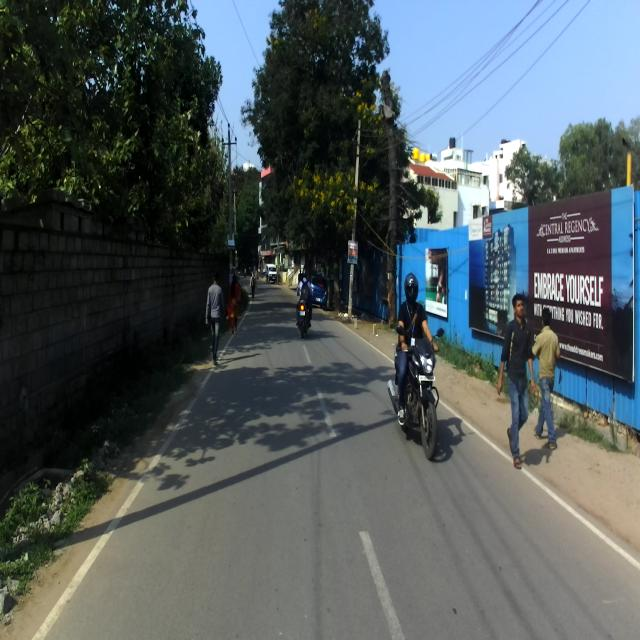motorcycle ahead at: (393, 321, 445, 458)
person ahead at: (496, 285, 538, 467), (201, 270, 230, 378)
